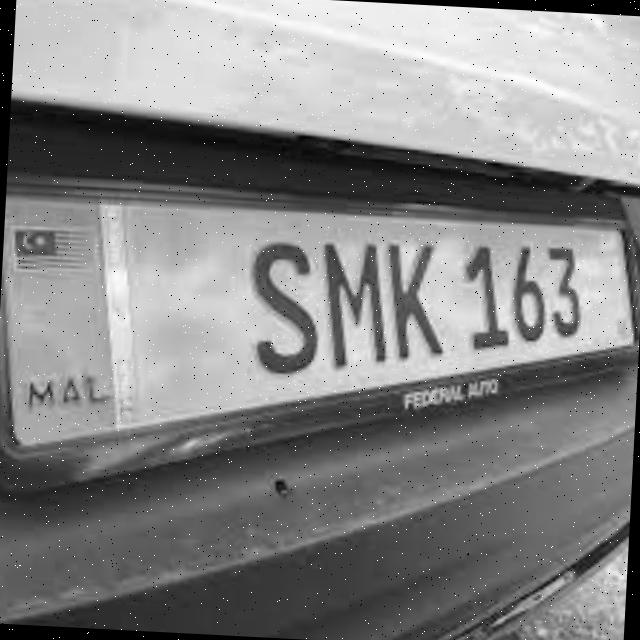License_Plate: (1, 180, 640, 483)
